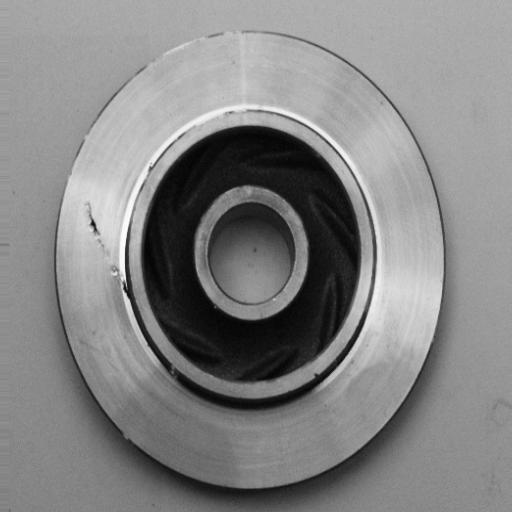crack: (80, 194, 140, 310)
scratch: (182, 96, 260, 135)
unpolished_casting: (54, 29, 447, 494)
